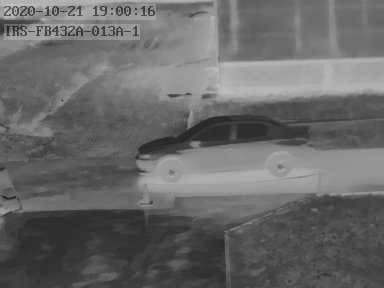vehicle: (135, 112, 311, 182)
